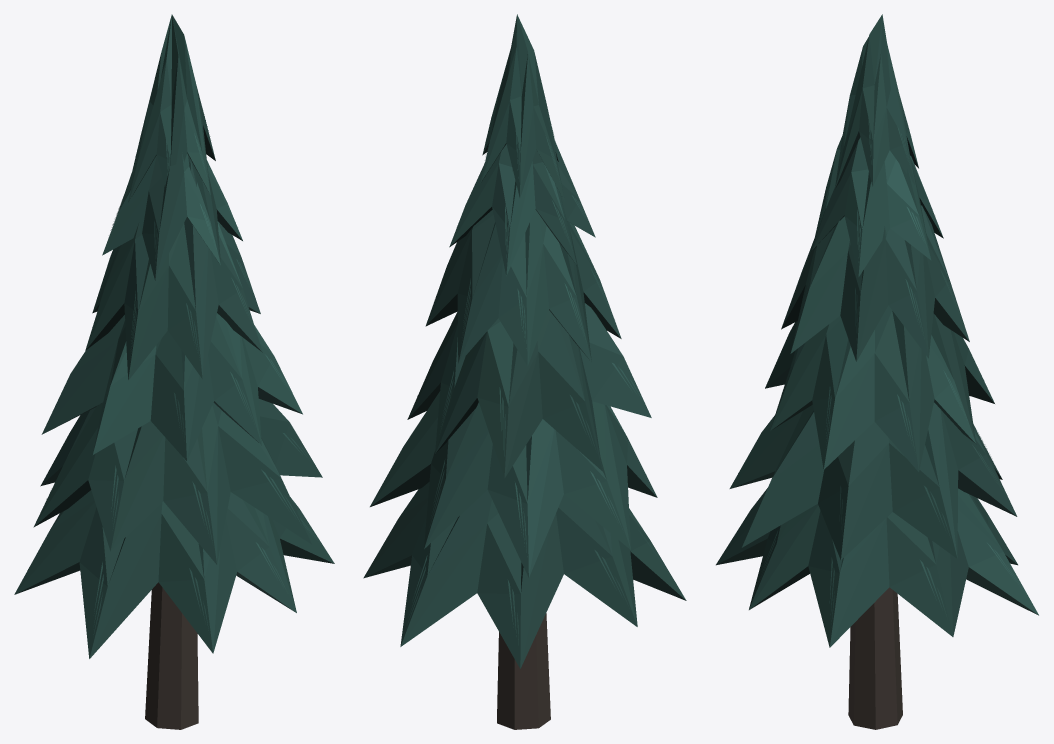
File: Spruce3.glb
The picture shows the model from 3 angles, left to right: view 1: azimuth 30°, elevation 25°; view 2: azimuth 150°, elevation 25°; view 3: azimuth 270°, elevation 25°; orthographic projection.
Parts seen in each view (by area): view 1: Spruce3; view 2: Spruce3; view 3: Spruce3.
Boxes of the visible parts, bbox=[...] form: Spruce3: bbox=[14, 14, 334, 729]; Spruce3: bbox=[363, 14, 686, 729]; Spruce3: bbox=[716, 14, 1038, 729].
Bounding box in the file's own units: 0.4112 × 1 × 0.4166.
